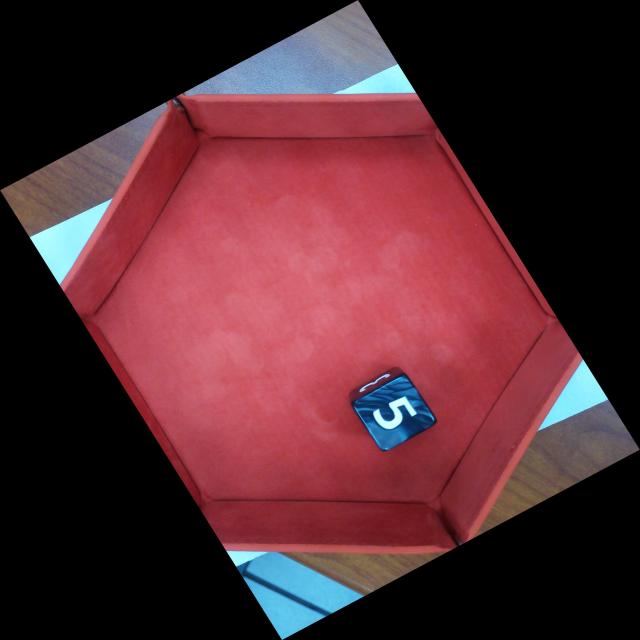dice: (348, 370, 440, 457)
